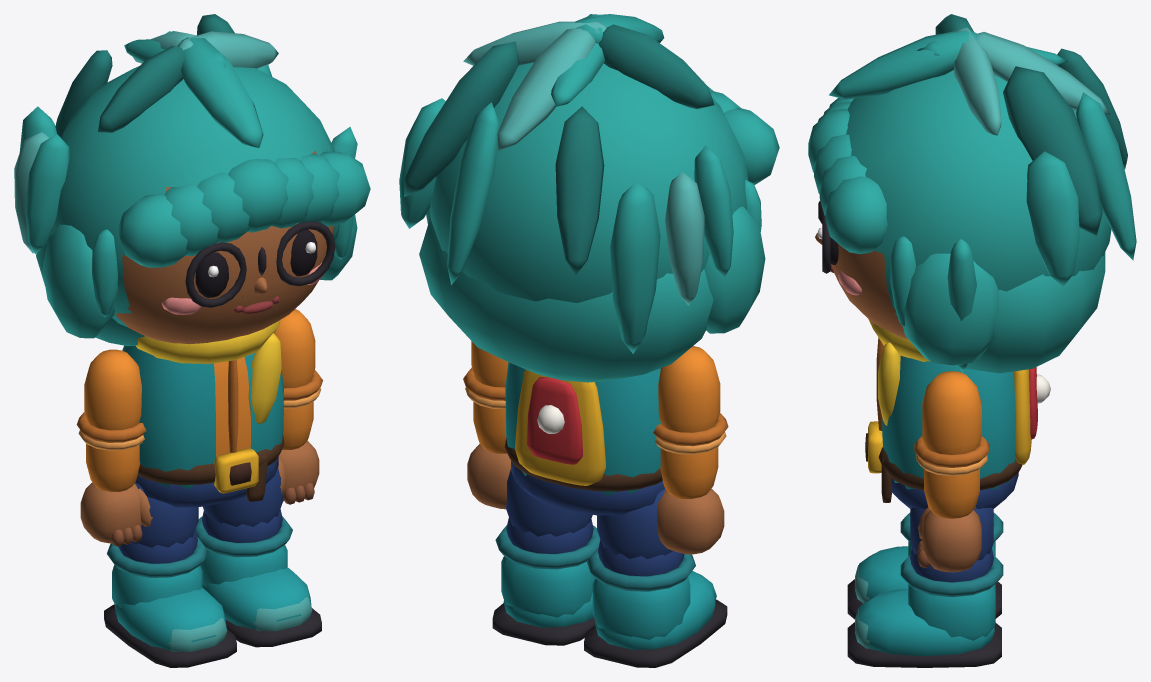
The model's file is ruler-e.glb.
The picture shows the model from 3 angles, left to right: view 1: azimuth 30°, elevation 25°; view 2: azimuth 150°, elevation 25°; view 3: azimuth 270°, elevation 25°; orthographic projection. The views are drawn at different scales.
Parts seen in each view (by area): view 1: hair, torso, head, shin_r, shin_l, arm_r, arm_l, hand_r, leg_l, leg_r, glasses, hand_l (+2 smaller); view 2: hair, torso, shin_r, shin_l, arm_r, leg_r, leg_l, hand_r, arm_l, hand_l; view 3: hair, torso, shin_l, arm_l, head, hand_l, shin_r, leg_l, glasses.
Boxes of the visible parts, bbox=[...] form: hair: bbox=[14, 14, 370, 346]; torso: bbox=[122, 320, 284, 507]; head: bbox=[116, 150, 334, 344]; shin_r: bbox=[104, 537, 236, 667]; shin_l: bbox=[195, 516, 321, 647]; arm_r: bbox=[76, 349, 146, 491]; arm_l: bbox=[274, 309, 322, 449]; hand_r: bbox=[80, 482, 152, 546]; leg_l: bbox=[202, 467, 283, 542]; leg_r: bbox=[118, 482, 198, 563]; glasses: bbox=[185, 221, 335, 307]; hand_l: bbox=[278, 440, 319, 504]; hair: bbox=[399, 14, 779, 382]; torso: bbox=[504, 362, 664, 515]; shin_r: bbox=[584, 547, 727, 667]; shin_l: bbox=[492, 525, 600, 645]; arm_r: bbox=[653, 346, 728, 498]; leg_r: bbox=[597, 489, 684, 576]; leg_l: bbox=[506, 469, 593, 553]; hand_r: bbox=[657, 489, 724, 554]; arm_l: bbox=[463, 341, 508, 453]; hand_l: bbox=[467, 444, 510, 509]; hair: bbox=[808, 14, 1136, 373]; torso: bbox=[865, 319, 1050, 508]; shin_l: bbox=[847, 555, 1003, 667]; arm_l: bbox=[914, 371, 989, 518]; head: bbox=[815, 233, 908, 339]; hand_l: bbox=[917, 507, 981, 572]; shin_r: bbox=[847, 512, 1003, 619]; leg_l: bbox=[910, 507, 993, 582]; glasses: bbox=[818, 200, 830, 273].
Size of the model in its own units: 0.5493 by 0.9759 by 0.4838.
1 material, 1 textured.
